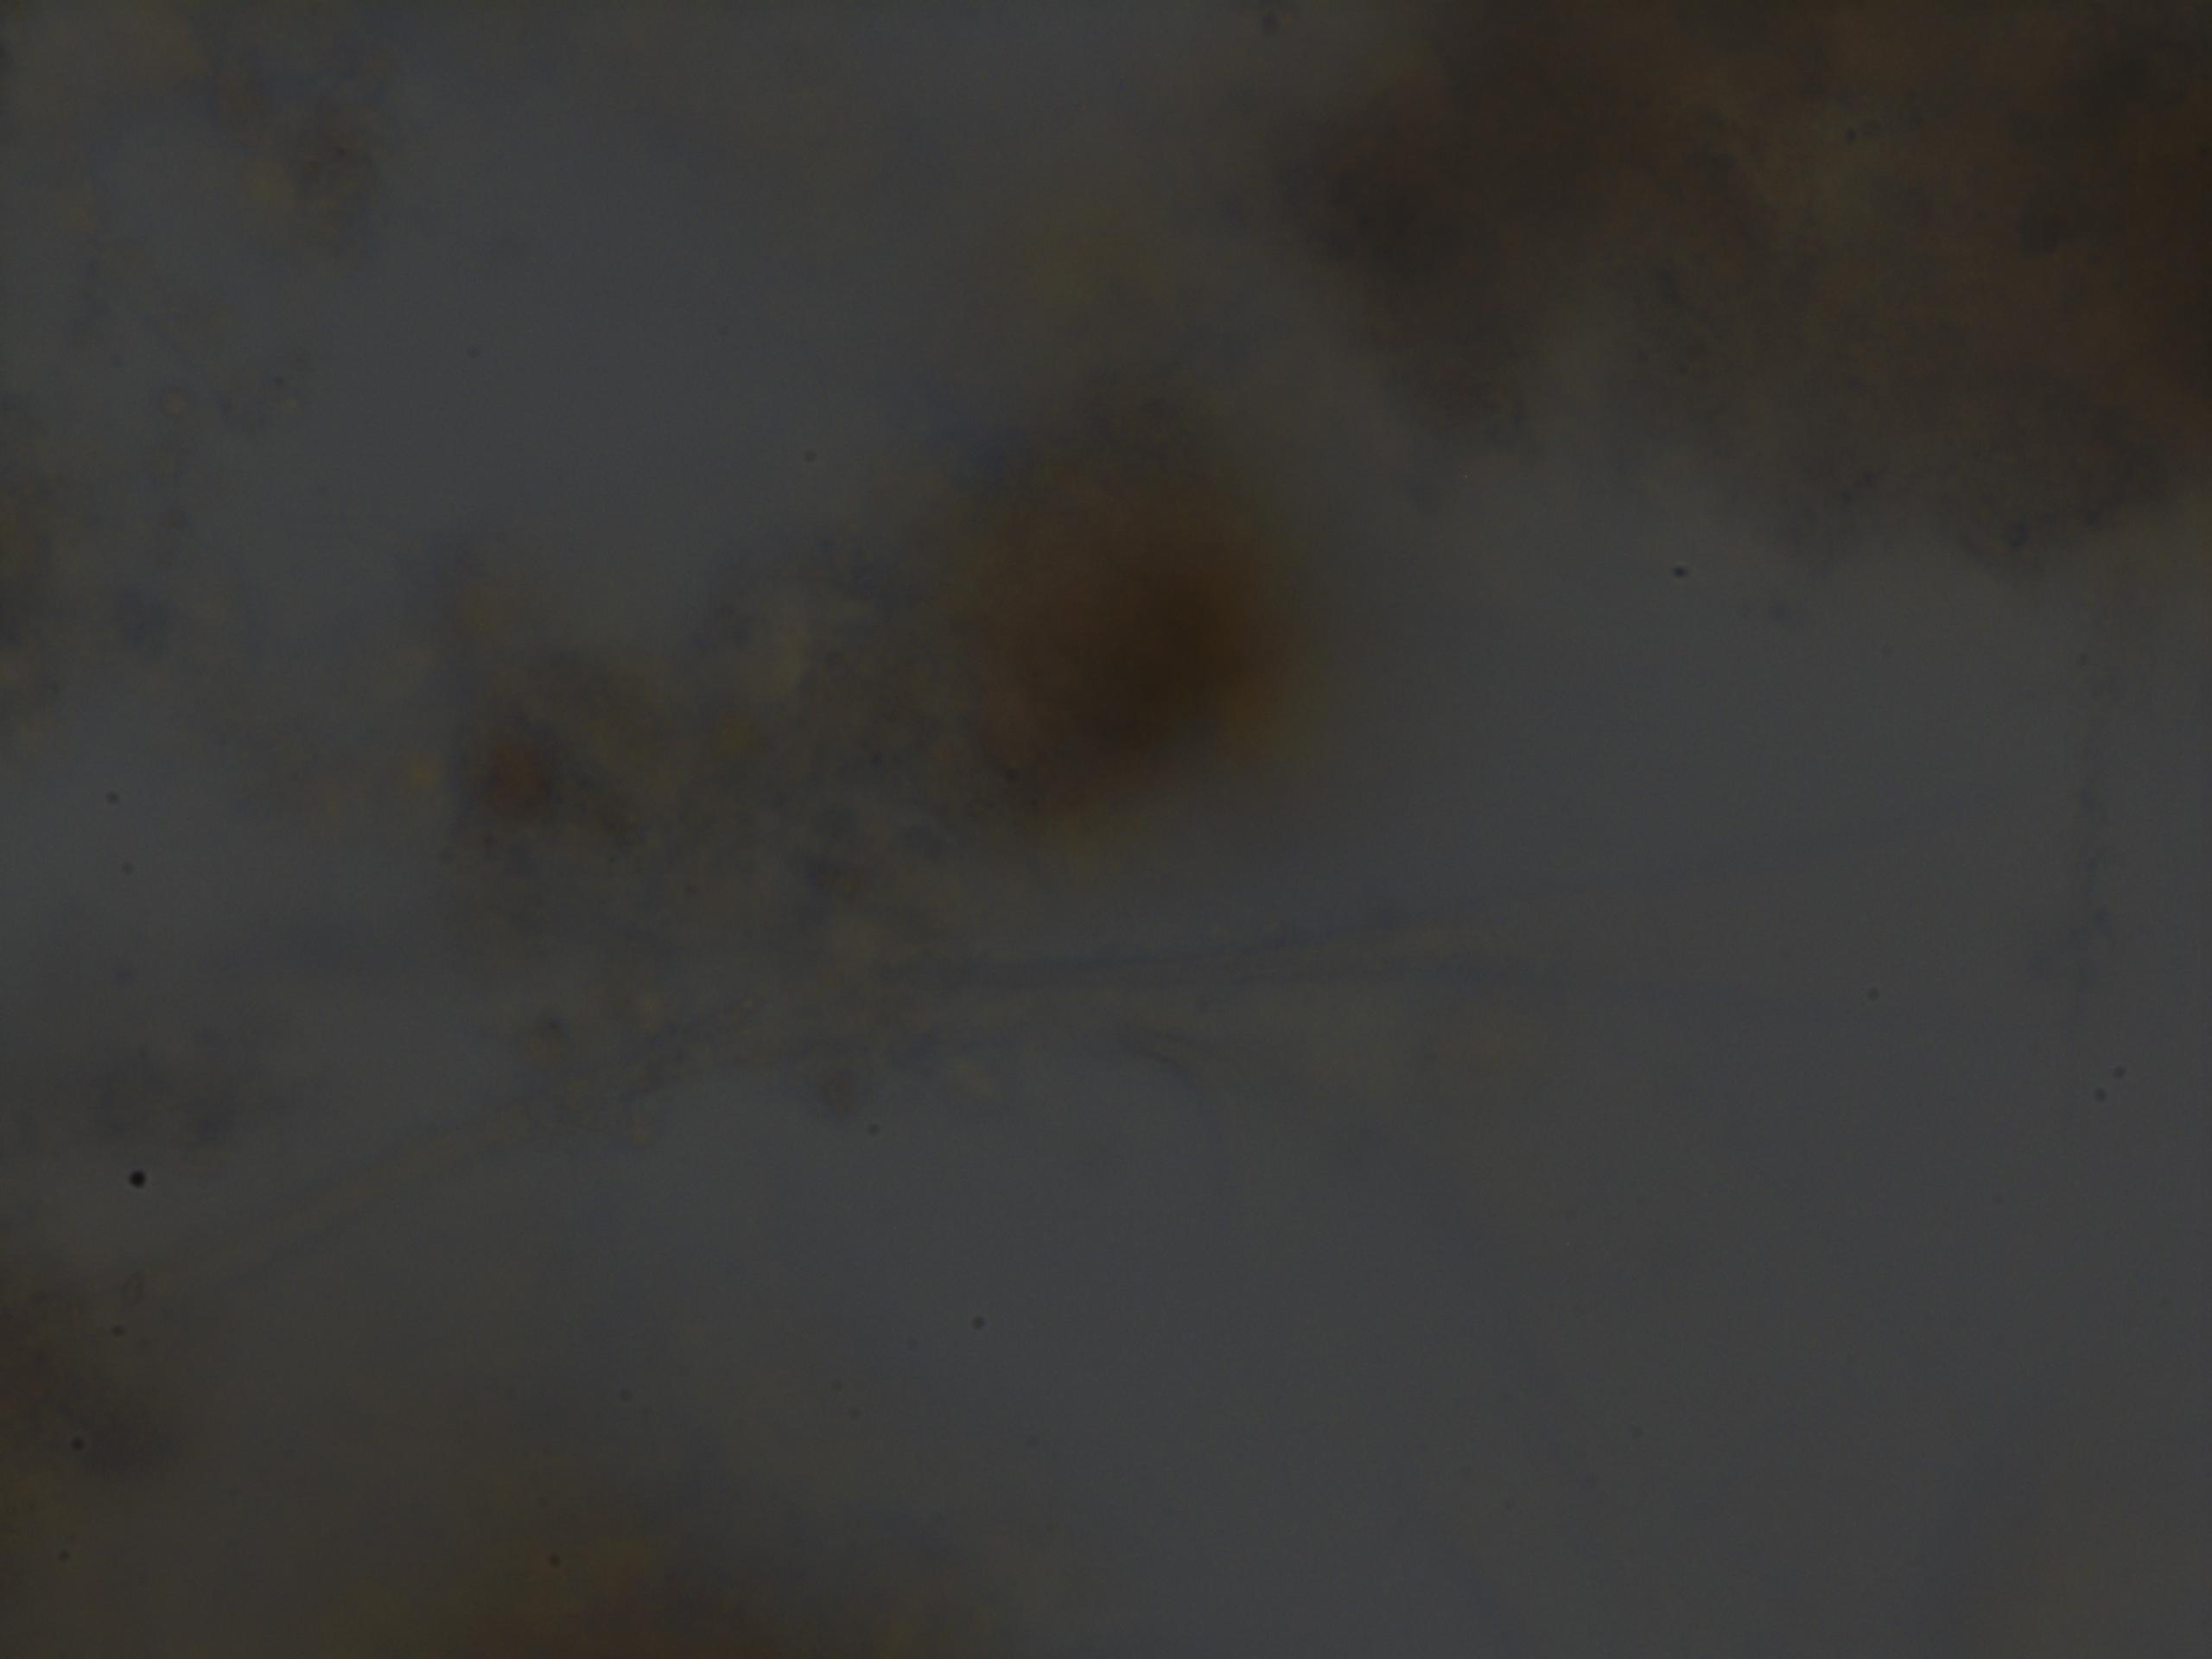filament: (101, 906, 1691, 1377)
